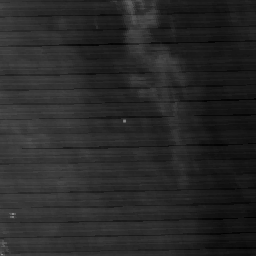Target: (122, 118, 129, 123)
